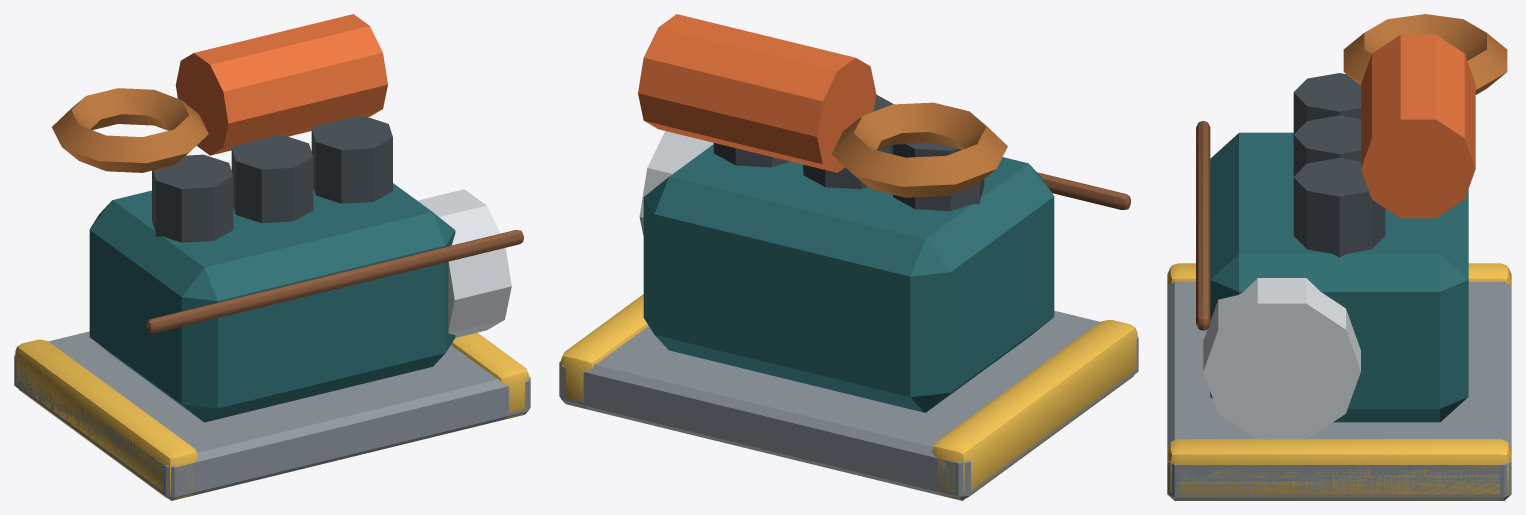
Rendered from Prop_GeneratorParts.fbx.
3 renders of one model, left to right at view 1: azimuth 30°, elevation 25°; view 2: azimuth 150°, elevation 25°; view 3: azimuth 270°, elevation 25°, orthographic. The views are drawn at different scales.
Visible parts, largest first — view 1: Stripe, Pallet; view 2: Stripe, Pallet; view 3: Stripe, Pallet.
Boxes of the visible parts, <box> form: Stripe: <box>15,14,529,499</box>; Pallet: <box>14,331,530,500</box>; Stripe: <box>560,14,1137,498</box>; Pallet: <box>559,310,1138,500</box>; Stripe: <box>1167,14,1511,500</box>; Pallet: <box>1167,281,1511,500</box>.
Bounding box in the file's own units: 3.3 × 2.73 × 2.4.
